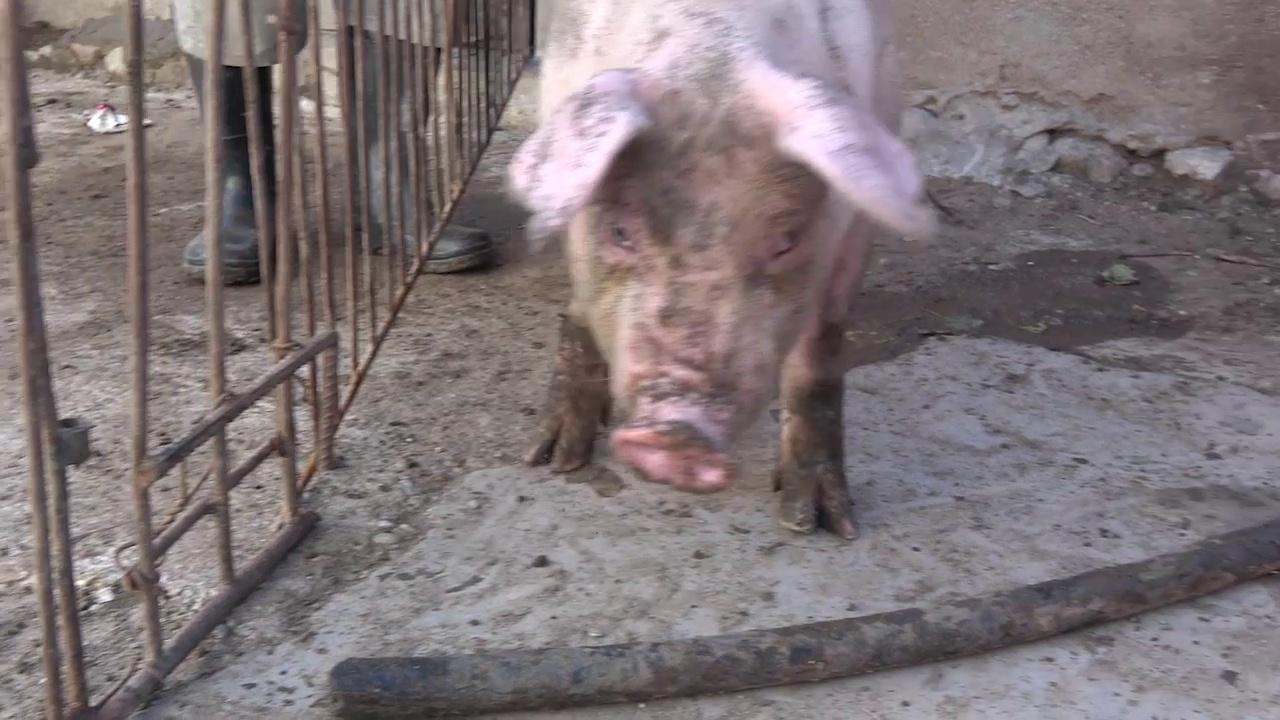Face: (496, 63, 946, 509)
